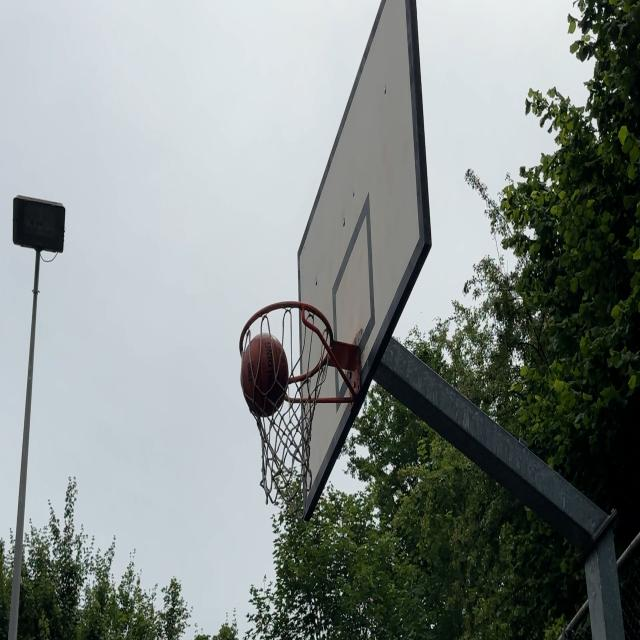Goal: (242, 332, 287, 417)
